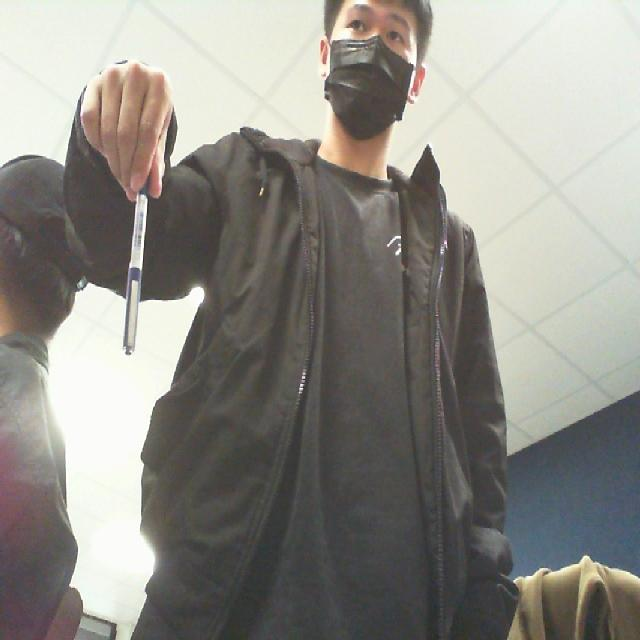Pen: (114, 177, 157, 374)
